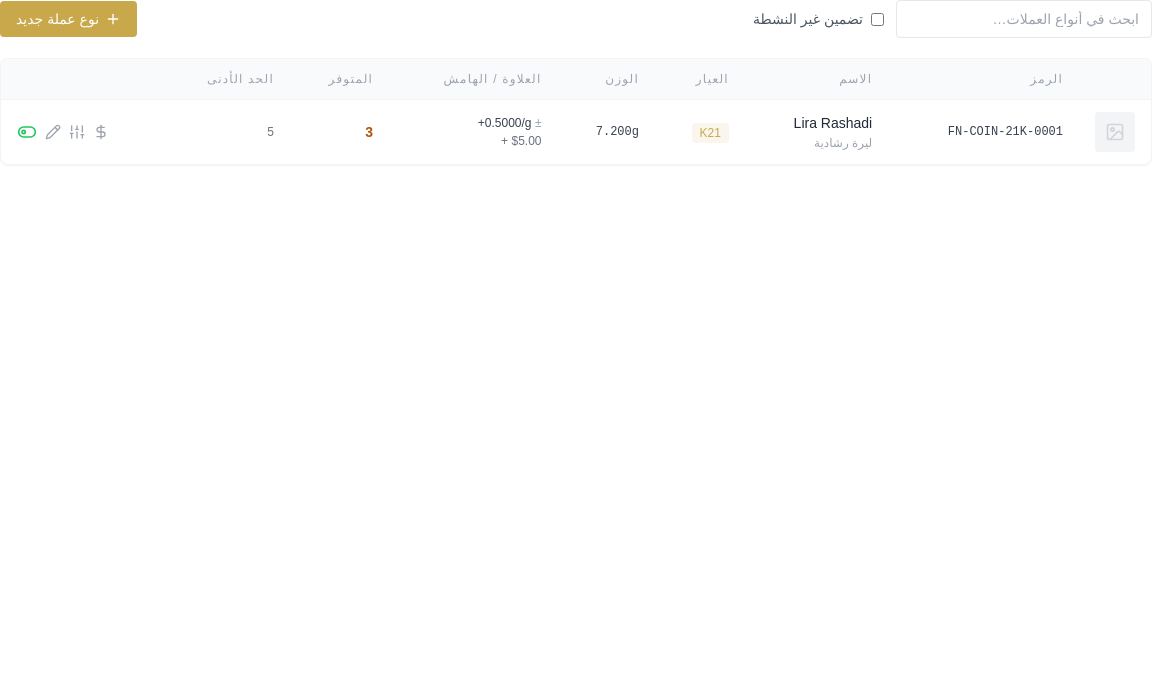
Test case: UnitCatalog in Arabic (NEX-64) › leaves no English behind — edit form, with a photo
The width and height of the screenshot is (1152, 700).
Click the checkbox labelled "تضمين غير النشطة" at (878, 19), box [871,12,884,26]
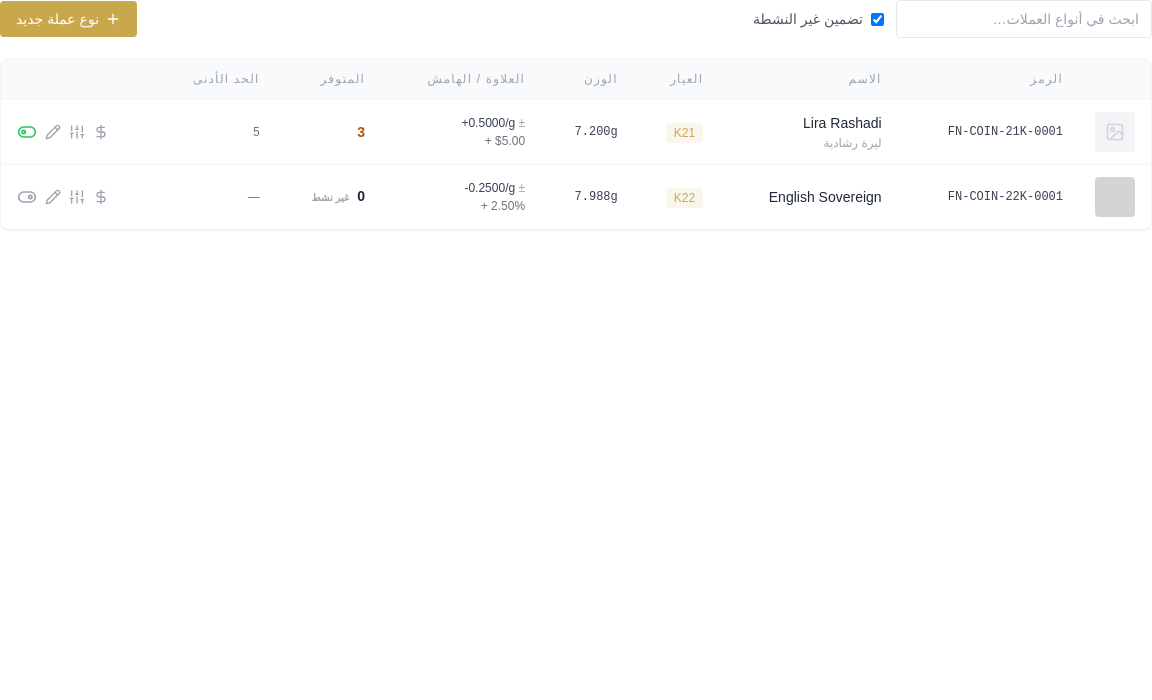
Click the button named "تعديل: FN-COIN-22K-0001" at (53, 197), box [45,189,61,205]
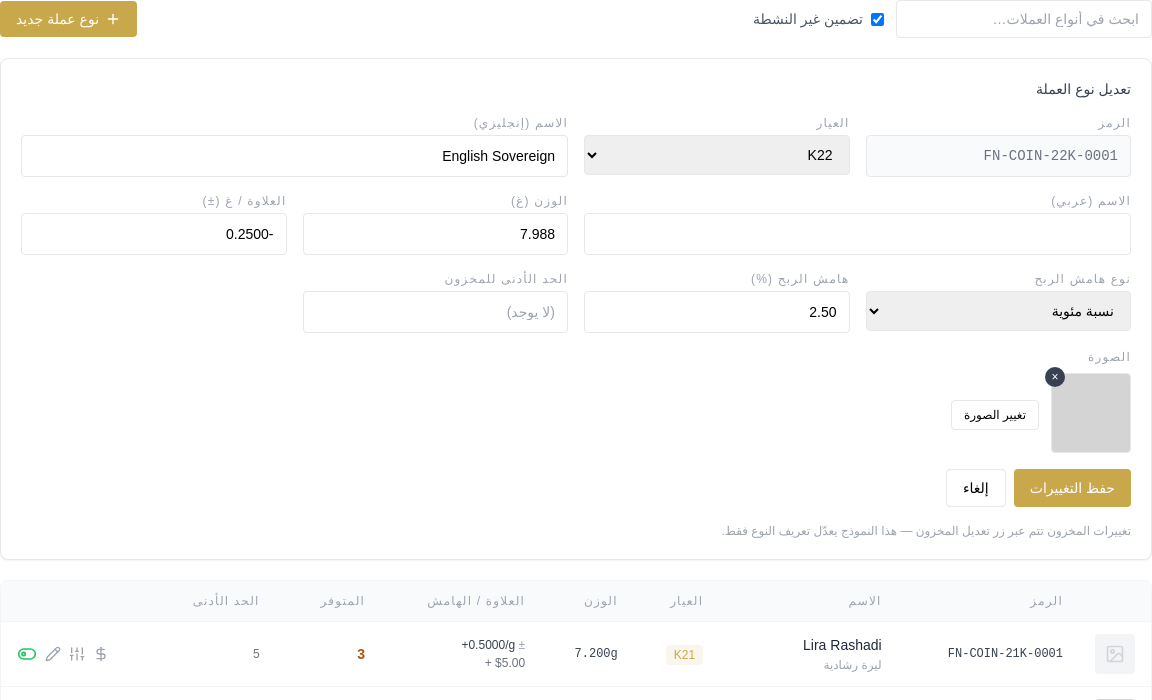
expect the text "تعديل نوع العملة" is shown: met, box [1036,81,1131,97]
expect the button "تغيير الصورة" is shown: met, box [951,400,1039,430]
expect the button "حفظ التغييرات" is shown: met, box [1014,469,1131,507]
